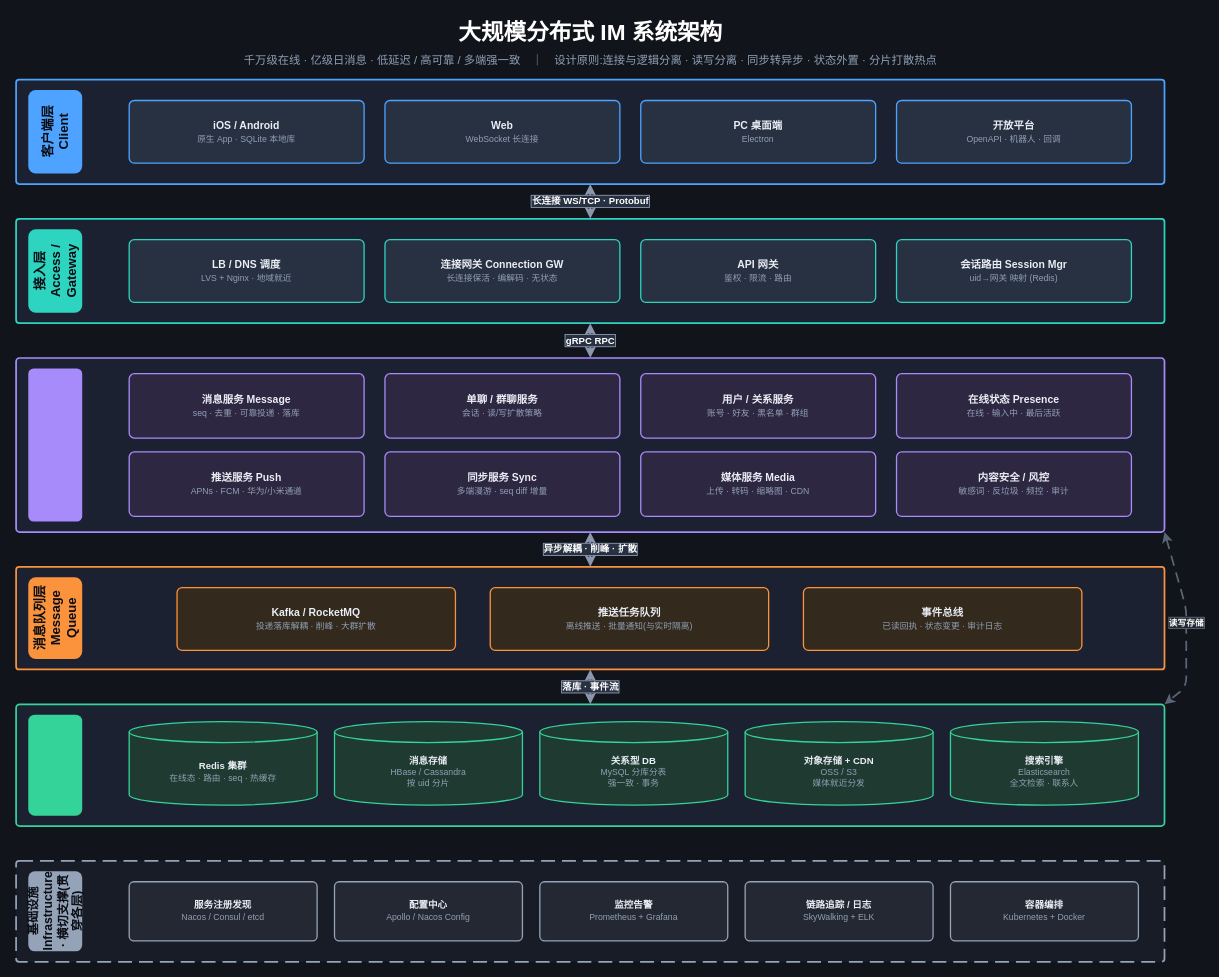
Image size: 1219x977. Some labels were removed from this diagram. The centre of each missing label's shape, as x and y in pixels:
业务逻辑层 Logic Services (微服务 / gRPC): point (55, 444)
存储层 Storage (冷热分离 · 分片): point (55, 764)
